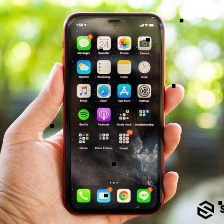phone: (60, 8, 166, 218)
